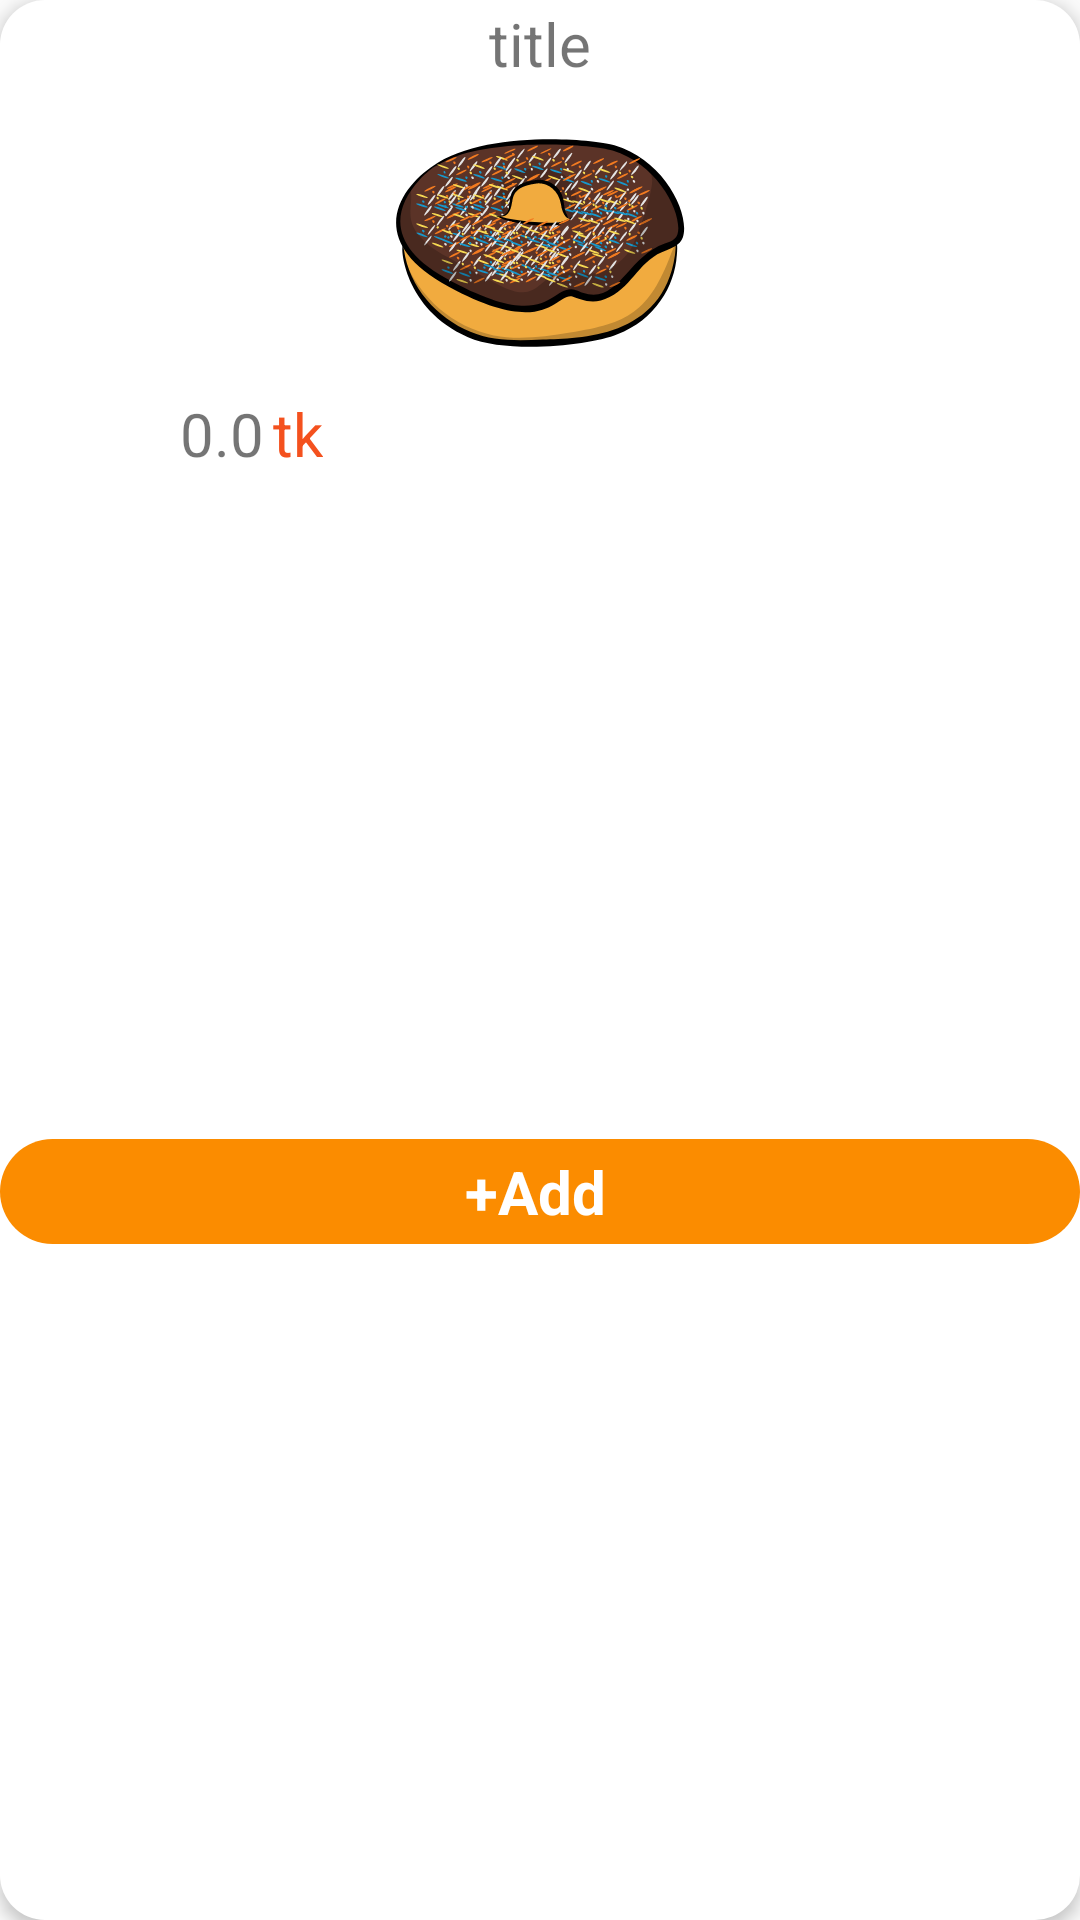

Where icons sit on this 1080 x 1920 app screen, as BBox(x1, y1, x2, y2):
donut: BBox(396, 139, 685, 347)
